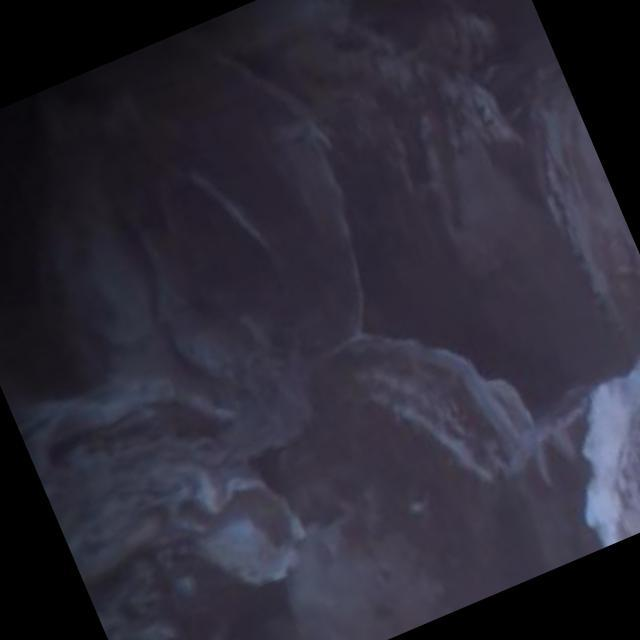Oyster- Indeterminate: (40, 44, 353, 451), (583, 345, 640, 546)
Oyster-Open: (324, 338, 553, 568), (532, 75, 640, 354)
